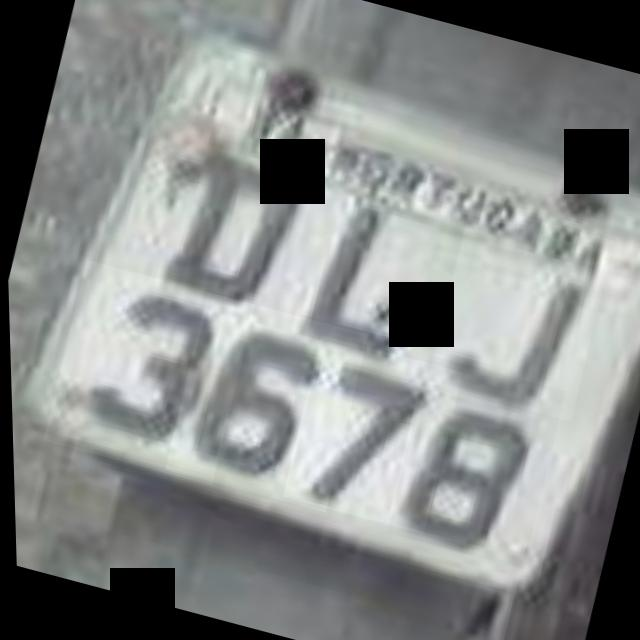3: (37, 260, 257, 484)
6: (157, 291, 369, 512)
7: (276, 334, 463, 534)
8: (379, 354, 567, 568)
J: (420, 202, 616, 421)
L: (263, 164, 448, 380)
